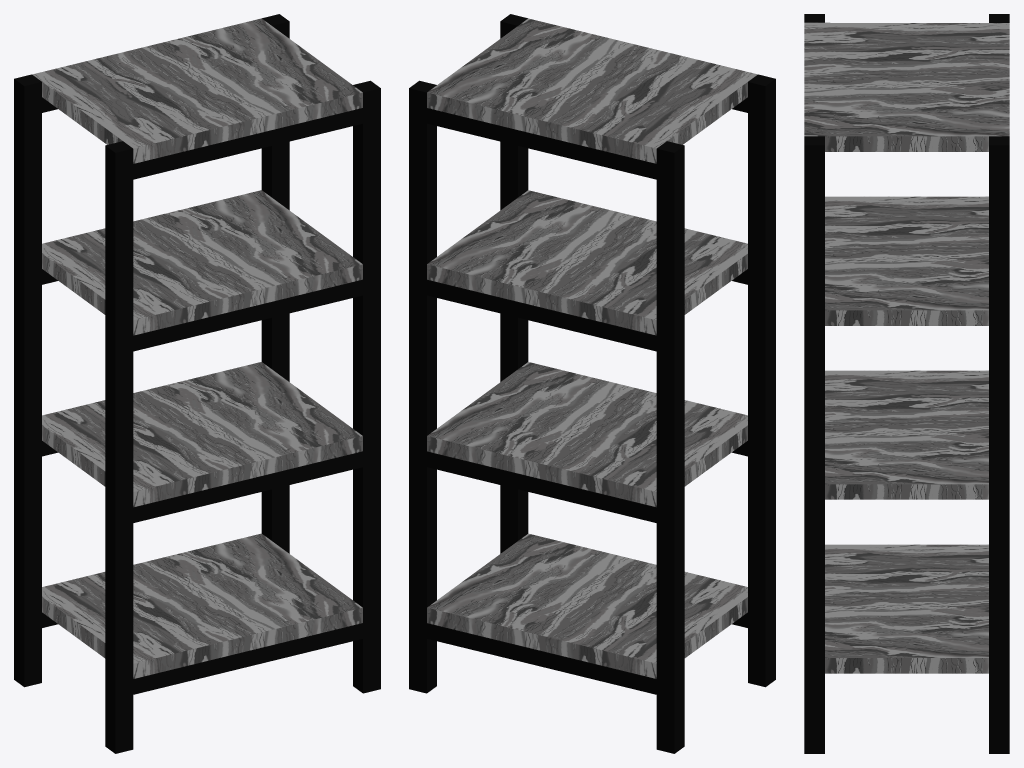
Rendered from librero.glb.
3 renders of one model, left to right at view 1: azimuth 30°, elevation 25°; view 2: azimuth 150°, elevation 25°; view 3: azimuth 270°, elevation 25°, orthographic.
Parts seen in each view (by area): view 1: Cube.006; view 2: Cube.006; view 3: Cube.006.
Boxes of the visible parts, x1,y1,x2,y2 form: Cube.006: (14,14,380,753); Cube.006: (409,14,775,753); Cube.006: (804,14,1009,753).
Bounding box in the file's own units: 1.18 × 2.55 × 0.7794.
2 materials, 1 textured.
